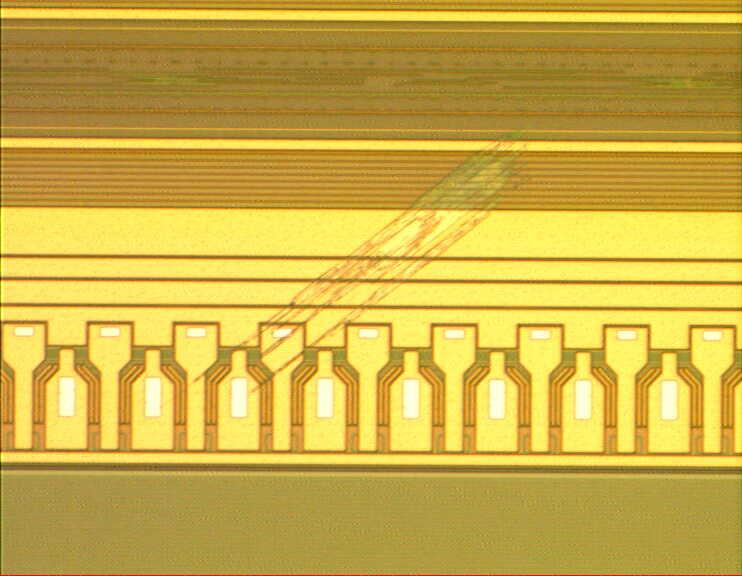SCRATCH: (180, 128, 537, 393)
